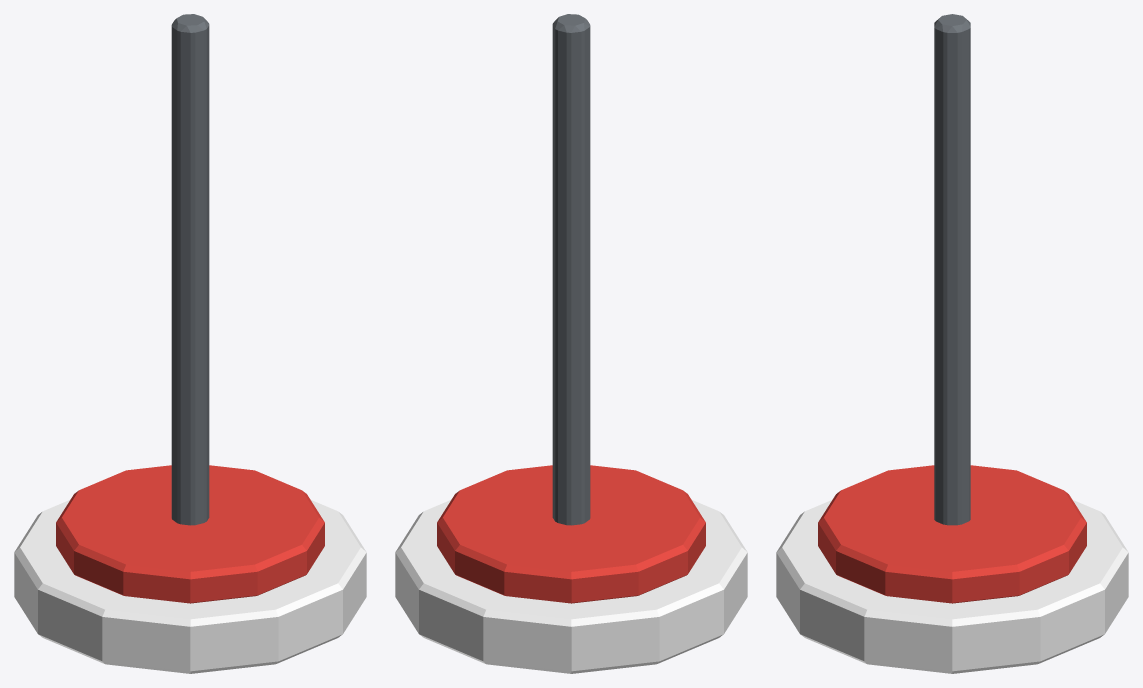
File: flag_base.glb
The picture shows the model from 3 angles, left to right: view 1: azimuth 30°, elevation 25°; view 2: azimuth 150°, elevation 25°; view 3: azimuth 270°, elevation 25°; orthographic projection.
Visible parts, largest first — view 1: flag_base; view 2: flag_base; view 3: flag_base.
Part boxes in pixels (<box>): flag_base: <box>14,14,366,673</box>; flag_base: <box>395,14,747,673</box>; flag_base: <box>776,14,1128,673</box>.
Size of the model in its own units: 0.38 by 0.6925 by 0.38.
